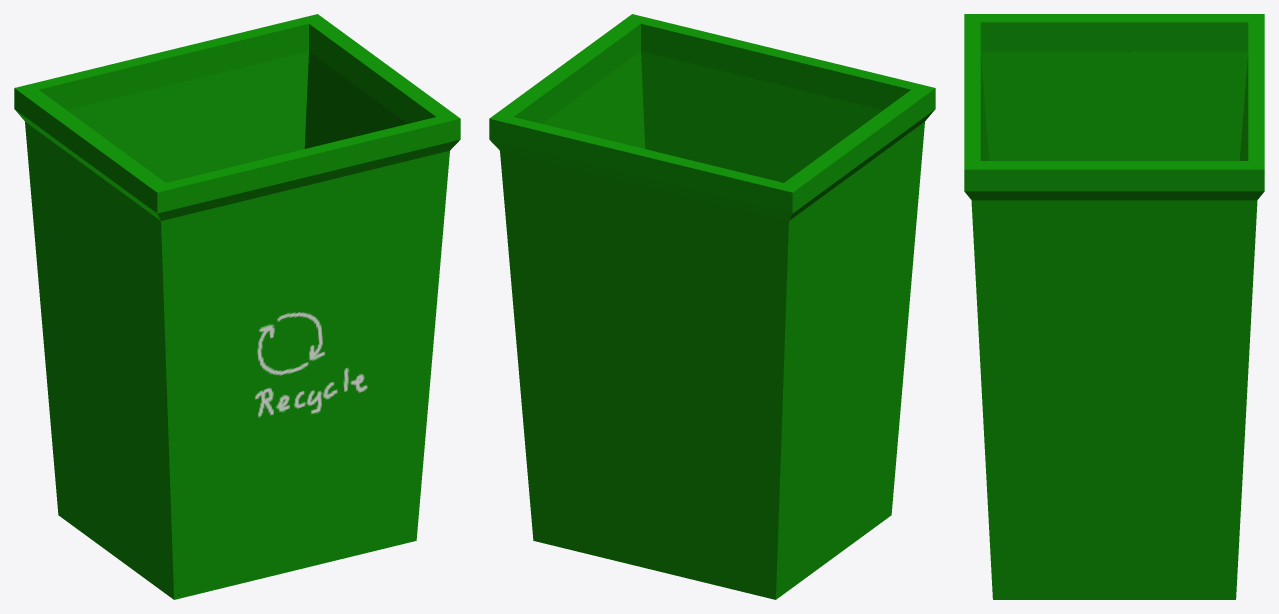
Rendered from Trashcan.fbx.
The picture shows the model from 3 angles, left to right: view 1: azimuth 30°, elevation 25°; view 2: azimuth 150°, elevation 25°; view 3: azimuth 270°, elevation 25°; orthographic projection. The views are drawn at different scales.
Parts seen in each view (by area): view 1: Cube; view 2: Cube; view 3: Cube.
Part boxes in pixels (x1=…): Cube: x1=14, y1=14, x2=460, y2=599; Cube: x1=489, y1=14, x2=935, y2=599; Cube: x1=964, y1=14, x2=1264, y2=599.
Bounding box in the file's own units: 151 × 202 × 123.
Materials: 1 (1 with a texture image).
